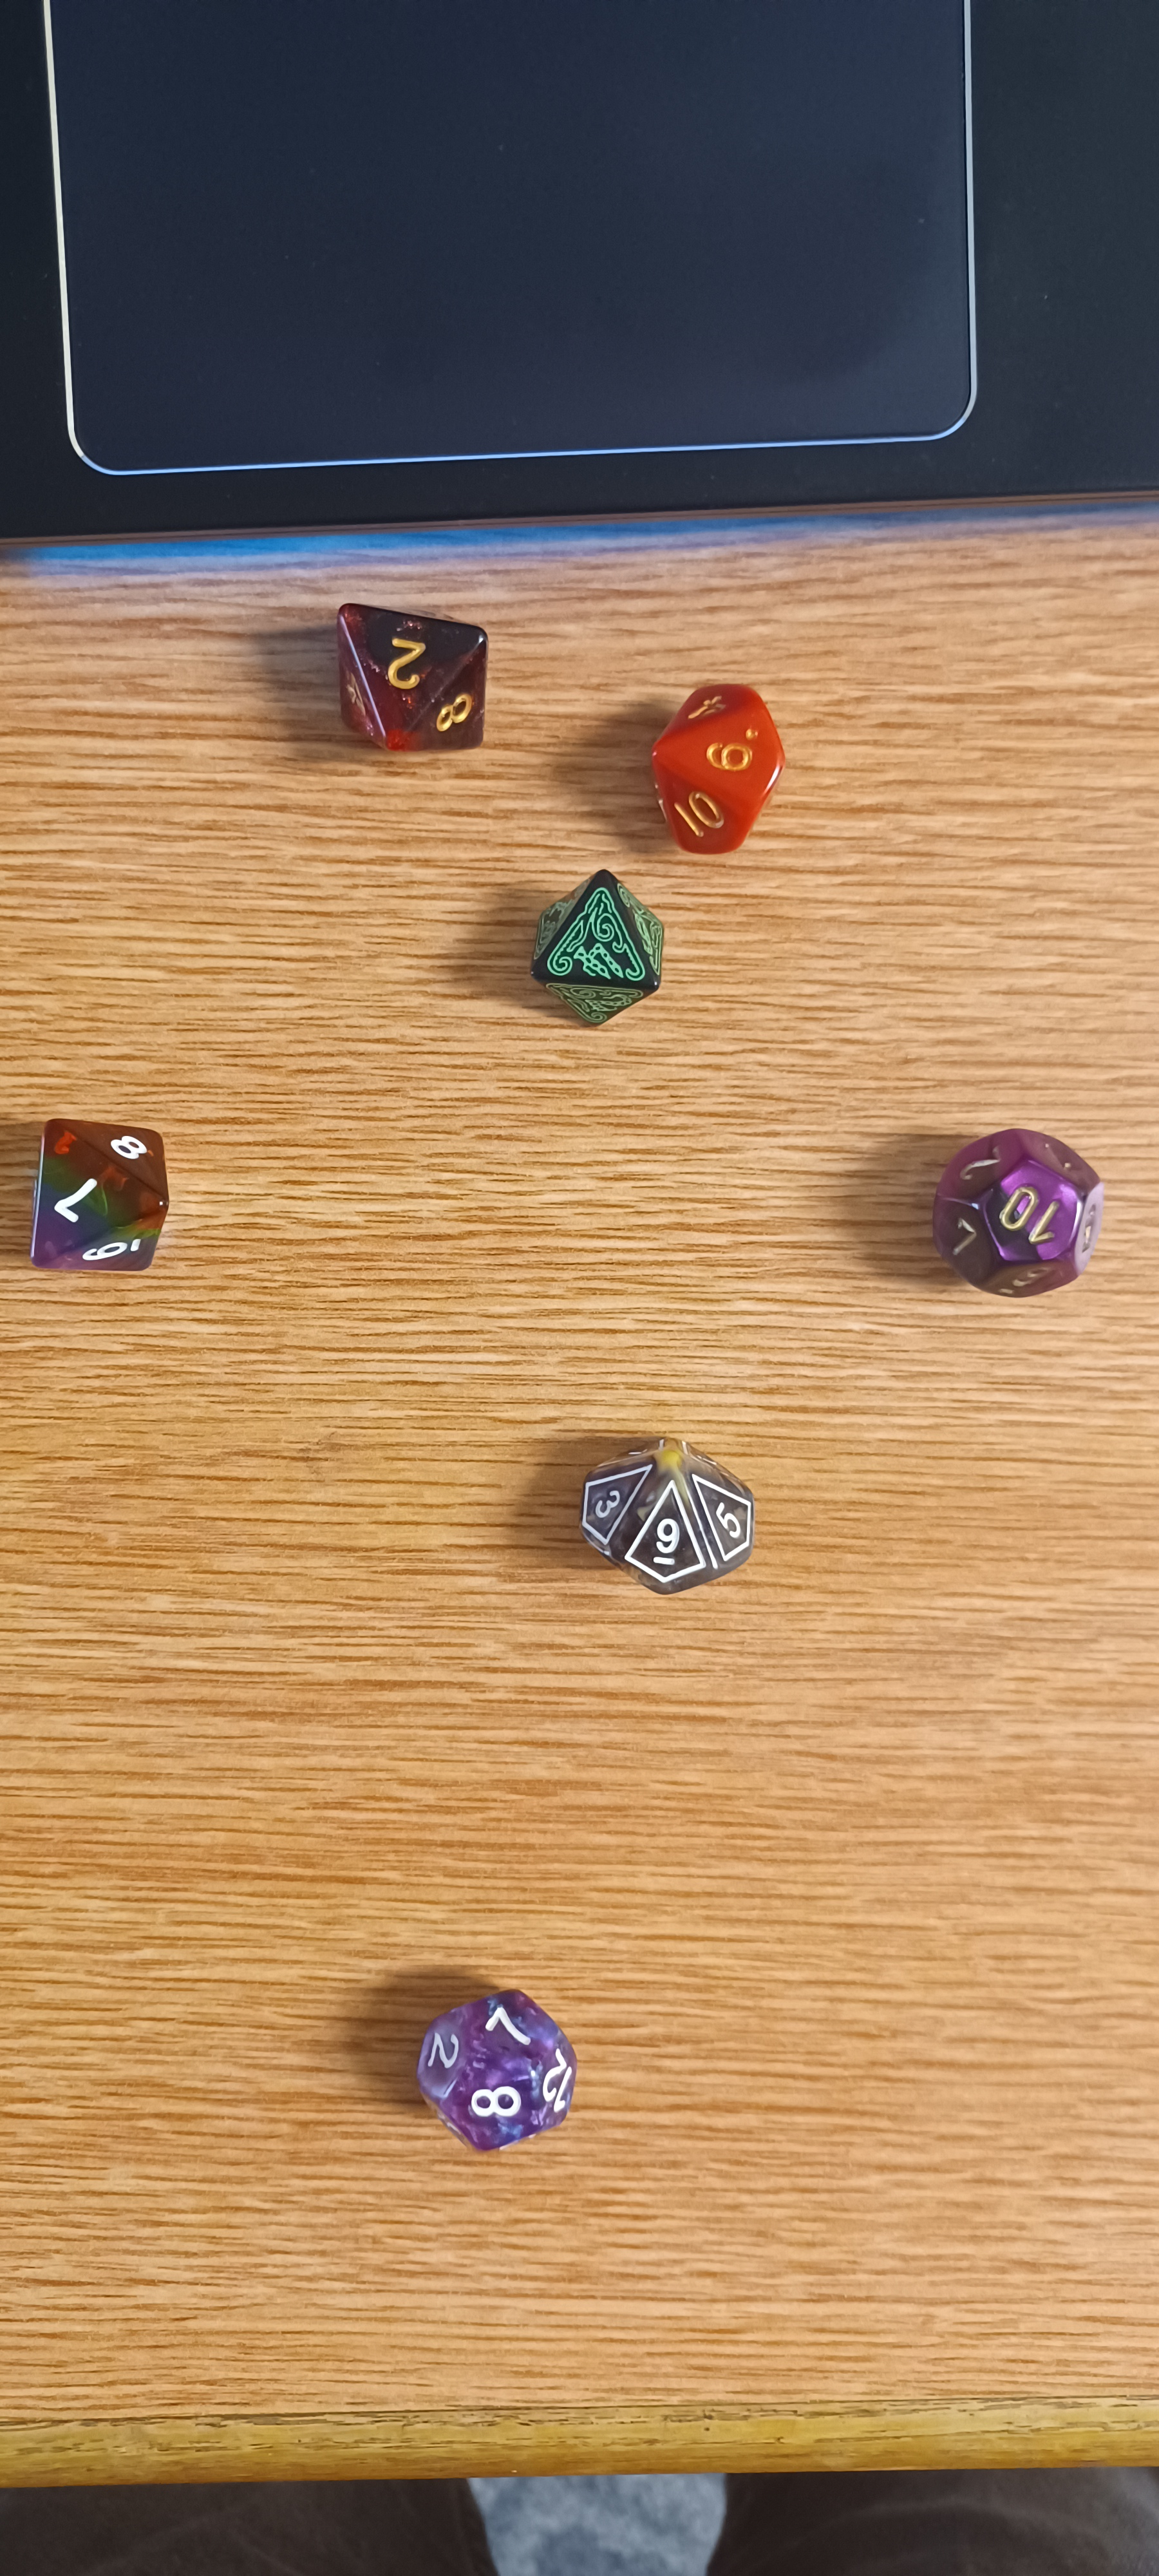eight: (387, 1960, 609, 2180)
four: (514, 856, 689, 1027)
nine: (550, 1431, 788, 1607)
seven: (7, 1088, 205, 1308)
six: (617, 646, 819, 871)
ten: (911, 1102, 1133, 1321)
two: (292, 577, 534, 779)
